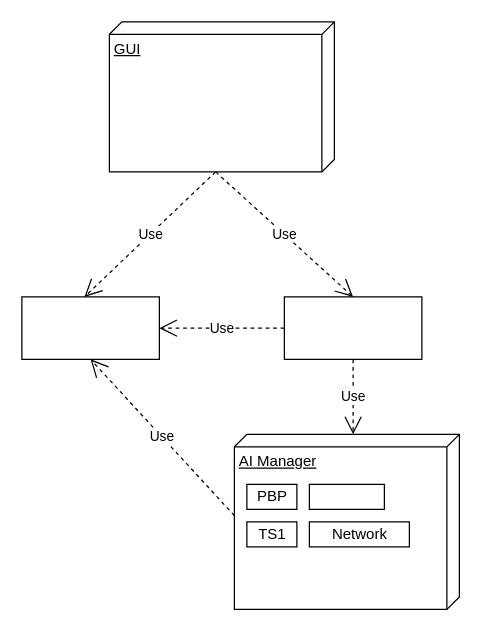
Image size: 481x631. Some labels were removed from this diagram. Each missing label, with the centre of its shape:
Board: point (90, 327)
Random: point (346, 496)
Turn: point (352, 327)
